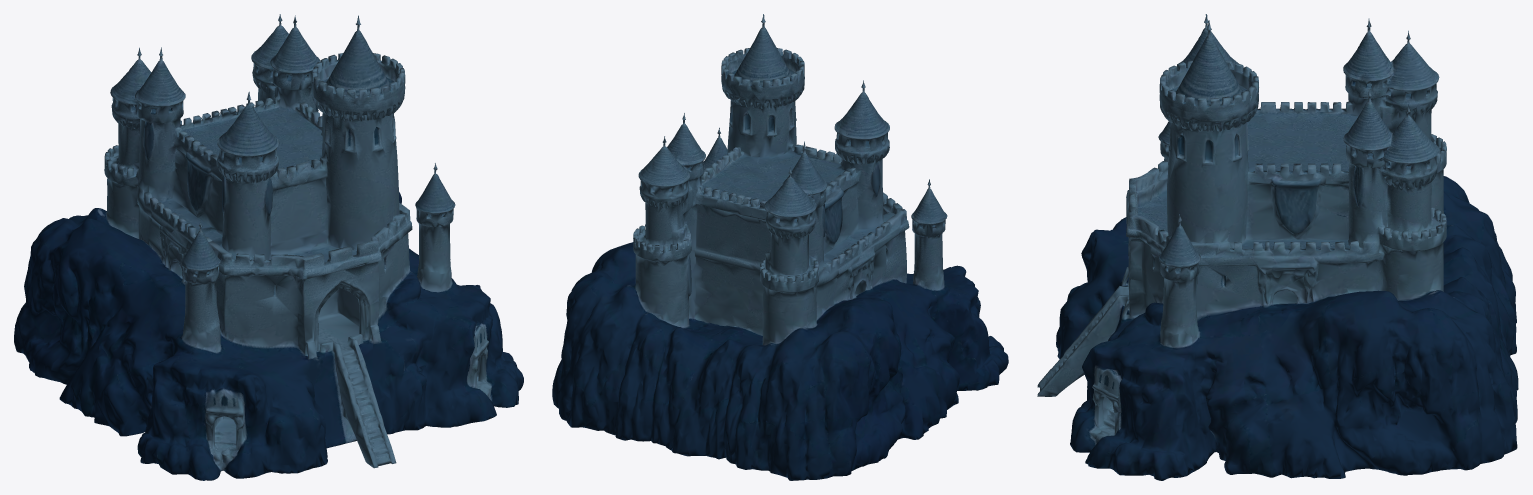
The model's file is castle.glb.
3 views of the same model, side by side, from view 1: azimuth 30°, elevation 25°; view 2: azimuth 150°, elevation 25°; view 3: azimuth 270°, elevation 25° (orthographic). The views are drawn at different scales.
Bounding box in the file's own units: 1.79 × 1.74 × 1.9.
Materials: 1 (1 with a texture image).
